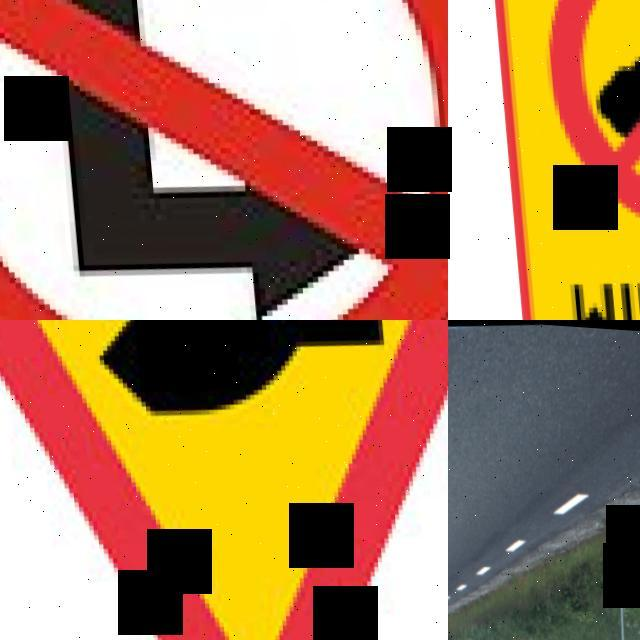166: (0, 320, 448, 640)
70: (473, 0, 640, 320)
No Right turn: (0, 0, 448, 320)
